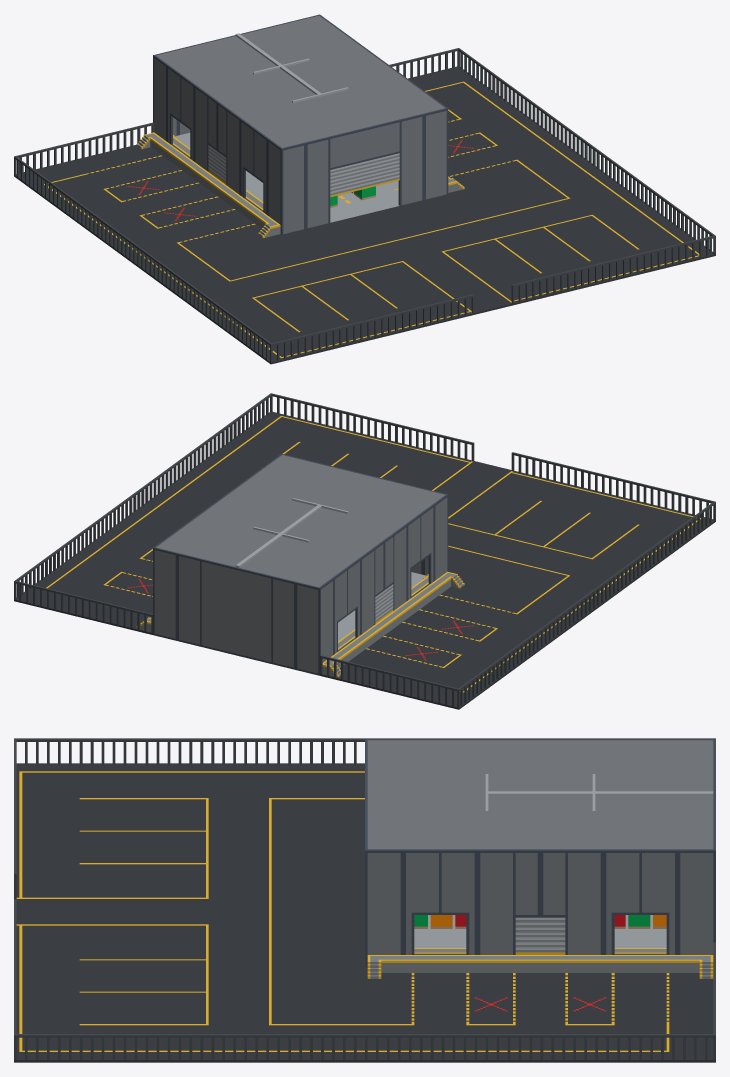
File: depo.obj
3 renders of one model, top to bottom at view 1: azimuth 30°, elevation 25°; view 2: azimuth 150°, elevation 25°; view 3: azimuth 270°, elevation 25°, orthographic. The views are drawn at different scales.
Bounding box in the file's own units: 25.6 × 4.9 × 25.6.
1 material, 1 textured.
